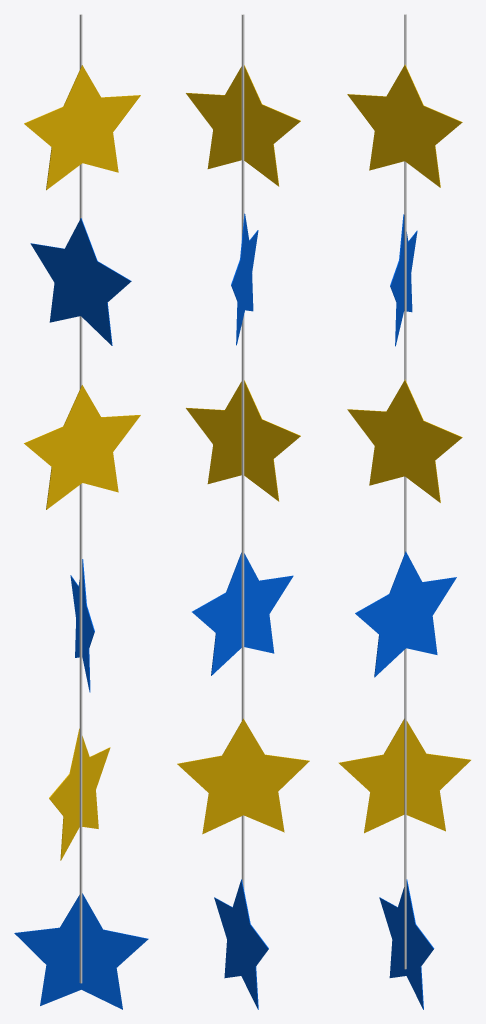
The model's file is PartyHangings01C_4.FBX.
3 views of the same model, side by side, from view 1: azimuth 30°, elevation 25°; view 2: azimuth 150°, elevation 25°; view 3: azimuth 330°, elevation 25° (orthographic).
Visible parts, largest first — view 1: PartyHangings01C_4; view 2: PartyHangings01C_4; view 3: PartyHangings01C_4.
Boxes of the visible parts, x1,y1,x2,y2 form: PartyHangings01C_4: [14, 14, 148, 1009]; PartyHangings01C_4: [177, 14, 309, 1009]; PartyHangings01C_4: [338, 14, 470, 1009].
Size of what is drawn, in the model's own units: 0.0841 by 0.6827 by 0.08.
